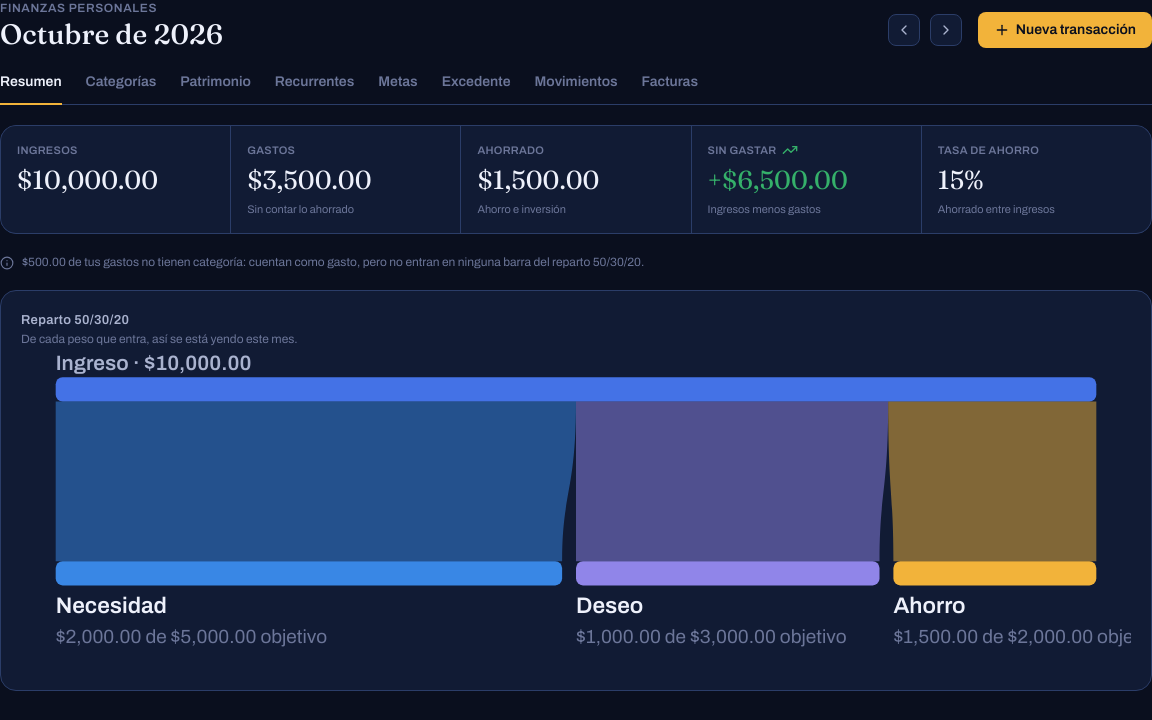
Test: FinanceDashboard › keeps the committed and overdue bills visible on the surplus tab when there is no income history
The image size is (1152, 720).
Click the tab "Excedente" at (476, 86), box [442,68,510,104]
(page scrolled)
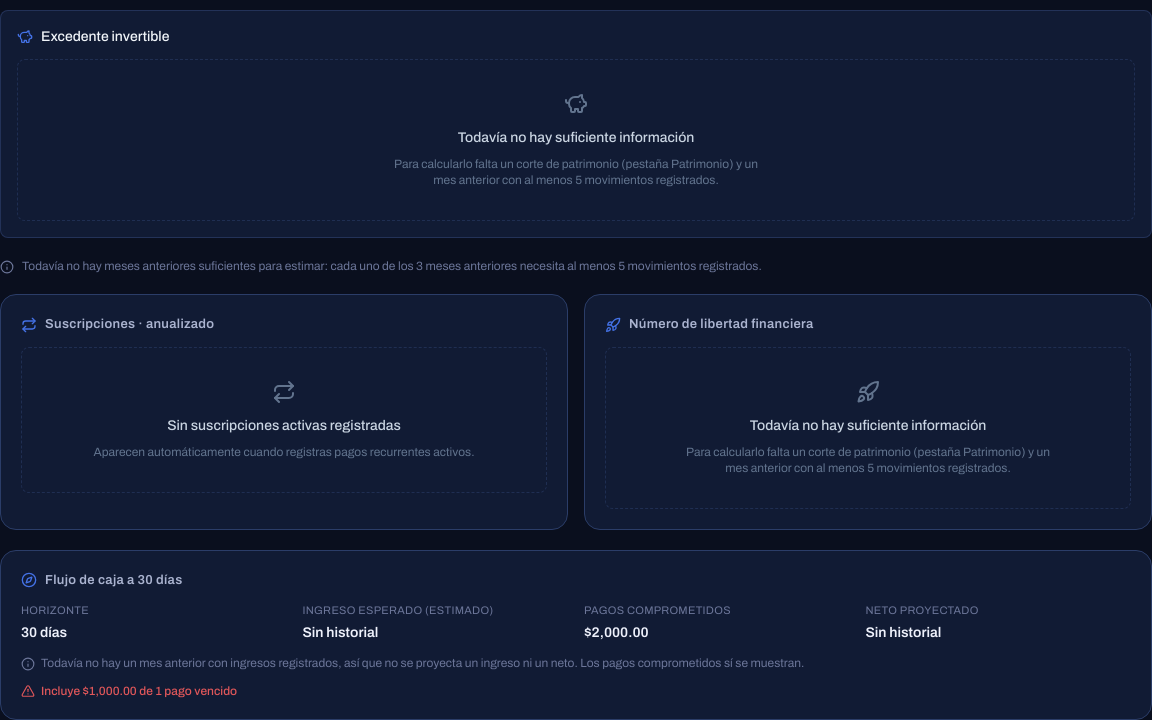
Expected: the text "Pagos comprometidos" is shown, [584,604,731,616]
Expected: the text "Sin historial" is shown 2 times, [302,624,378,640]; [866,624,941,640]
